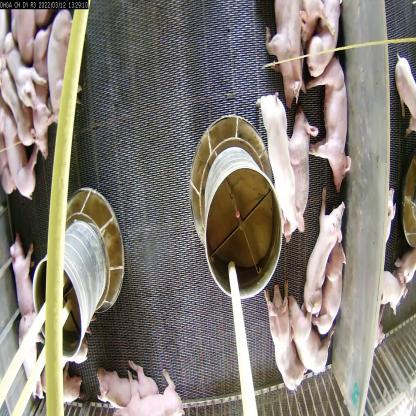Pig: (253, 84, 305, 241), (260, 286, 306, 415), (45, 1, 89, 124), (322, 47, 355, 188), (306, 198, 343, 318), (283, 98, 316, 228), (292, 292, 335, 389), (268, 0, 307, 106), (96, 342, 150, 415), (14, 254, 42, 382), (0, 104, 34, 204), (9, 46, 41, 146), (324, 230, 350, 336), (125, 390, 201, 415)
